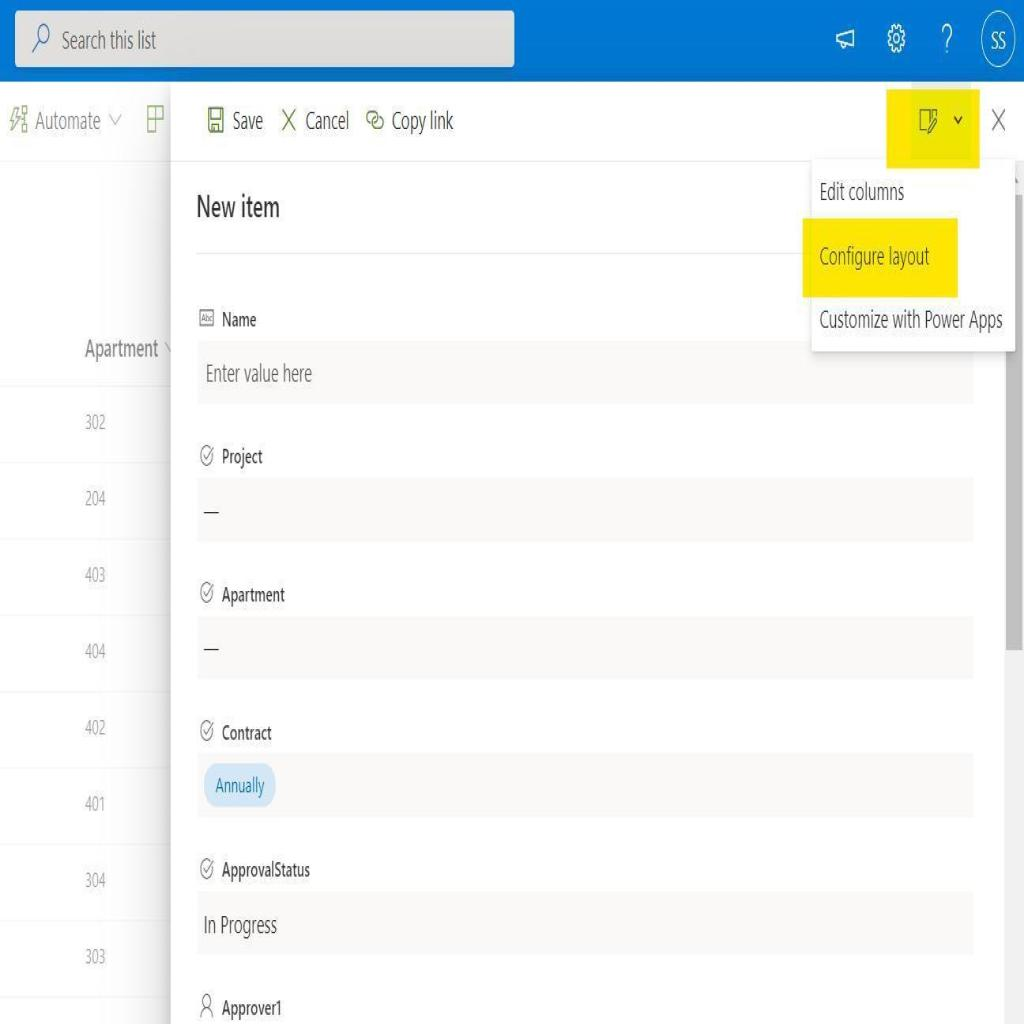dropdown: (33, 104, 127, 136), (952, 106, 966, 132)
icon: (882, 21, 910, 61), (142, 100, 167, 141), (8, 100, 30, 140), (916, 104, 940, 138), (364, 102, 386, 136), (206, 105, 228, 136), (939, 22, 957, 58), (195, 441, 218, 467), (198, 991, 216, 1024), (198, 854, 216, 883), (196, 718, 216, 744), (281, 103, 297, 134), (990, 104, 1007, 133), (836, 29, 855, 53), (199, 305, 216, 328), (199, 580, 215, 603)
input: (198, 750, 974, 819), (197, 615, 976, 683), (197, 476, 974, 544), (198, 891, 973, 957), (198, 341, 812, 404), (15, 10, 515, 68)
label: (220, 857, 312, 883), (390, 105, 458, 138), (219, 579, 289, 607), (223, 991, 284, 1023), (219, 438, 265, 471), (220, 718, 276, 742), (305, 105, 351, 133), (220, 310, 258, 334), (231, 108, 264, 130)
